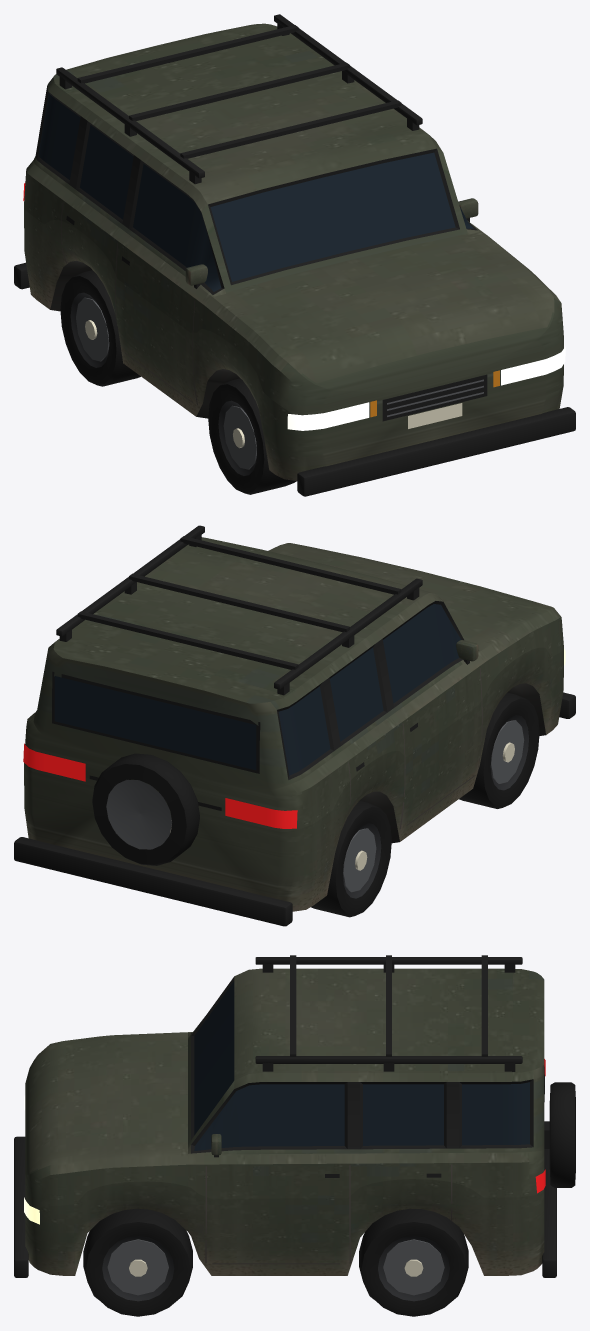
Rendered from suv.glb.
The picture shows the model from 3 angles, top to bottom: view 1: azimuth 30°, elevation 25°; view 2: azimuth 150°, elevation 25°; view 3: azimuth 270°, elevation 25°; orthographic projection. The views are drawn at different scales.
Parts seen in each view (by area): view 1: body, wheel-back-right, wheel-front-right, wheel-back-right.1, wheel-front-right.1; view 2: body, wheel-back, wheel-back-right, wheel-front-right, wheel-back-right.1, wheel-front-right.1; view 3: body, wheel-front-left, wheel-back-left, wheel-front-left.1, wheel-back-left.1, wheel-back.
Part boxes in pixels (x1=…): body: x1=14, y1=14, x2=575, y2=496; wheel-back-right: x1=60, y1=270, x2=140, y2=386; wheel-front-right: x1=208, y1=378, x2=296, y2=494; wheel-back-right.1: x1=71, y1=292, x2=109, y2=367; wheel-front-right.1: x1=218, y1=400, x2=256, y2=475; body: x1=14, y1=525, x2=575, y2=926; wheel-back: x1=92, y1=753, x2=199, y2=865; wheel-back-right: x1=311, y1=800, x2=391, y2=917; wheel-front-right: x1=459, y1=692, x2=539, y2=808; wheel-back-right.1: x1=343, y1=823, x2=381, y2=898; wheel-front-right.1: x1=490, y1=715, x2=528, y2=790; body: x1=14, y1=955, x2=556, y2=1277; wheel-front-left: x1=83, y1=1208, x2=192, y2=1316; wheel-back-left: x1=359, y1=1208, x2=468, y2=1316; wheel-front-left.1: x1=102, y1=1236, x2=174, y2=1301; wheel-back-left.1: x1=378, y1=1236, x2=449, y2=1301; wheel-back: x1=544, y1=1082, x2=575, y2=1187.
Bounding box in the file's own units: 1.5 × 1.32 × 2.69.
12 materials, 1 textured.
